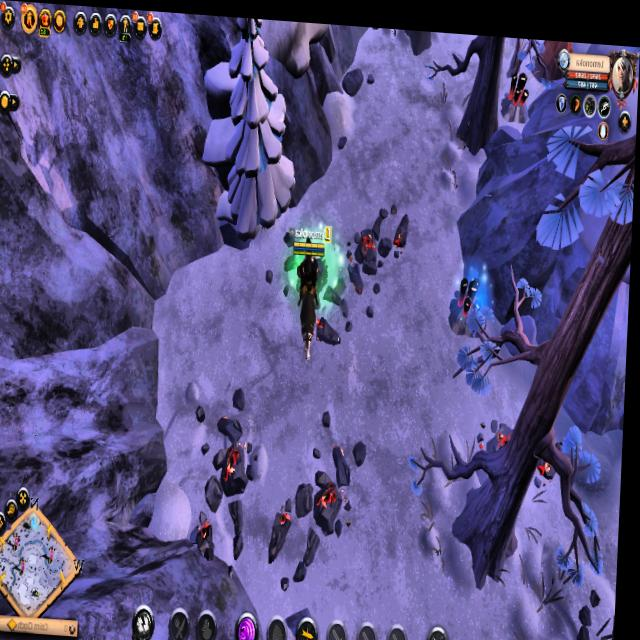ore tier 5: (447, 264, 492, 331), (502, 61, 534, 116)
